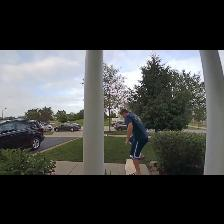person: (121, 109, 148, 174)
